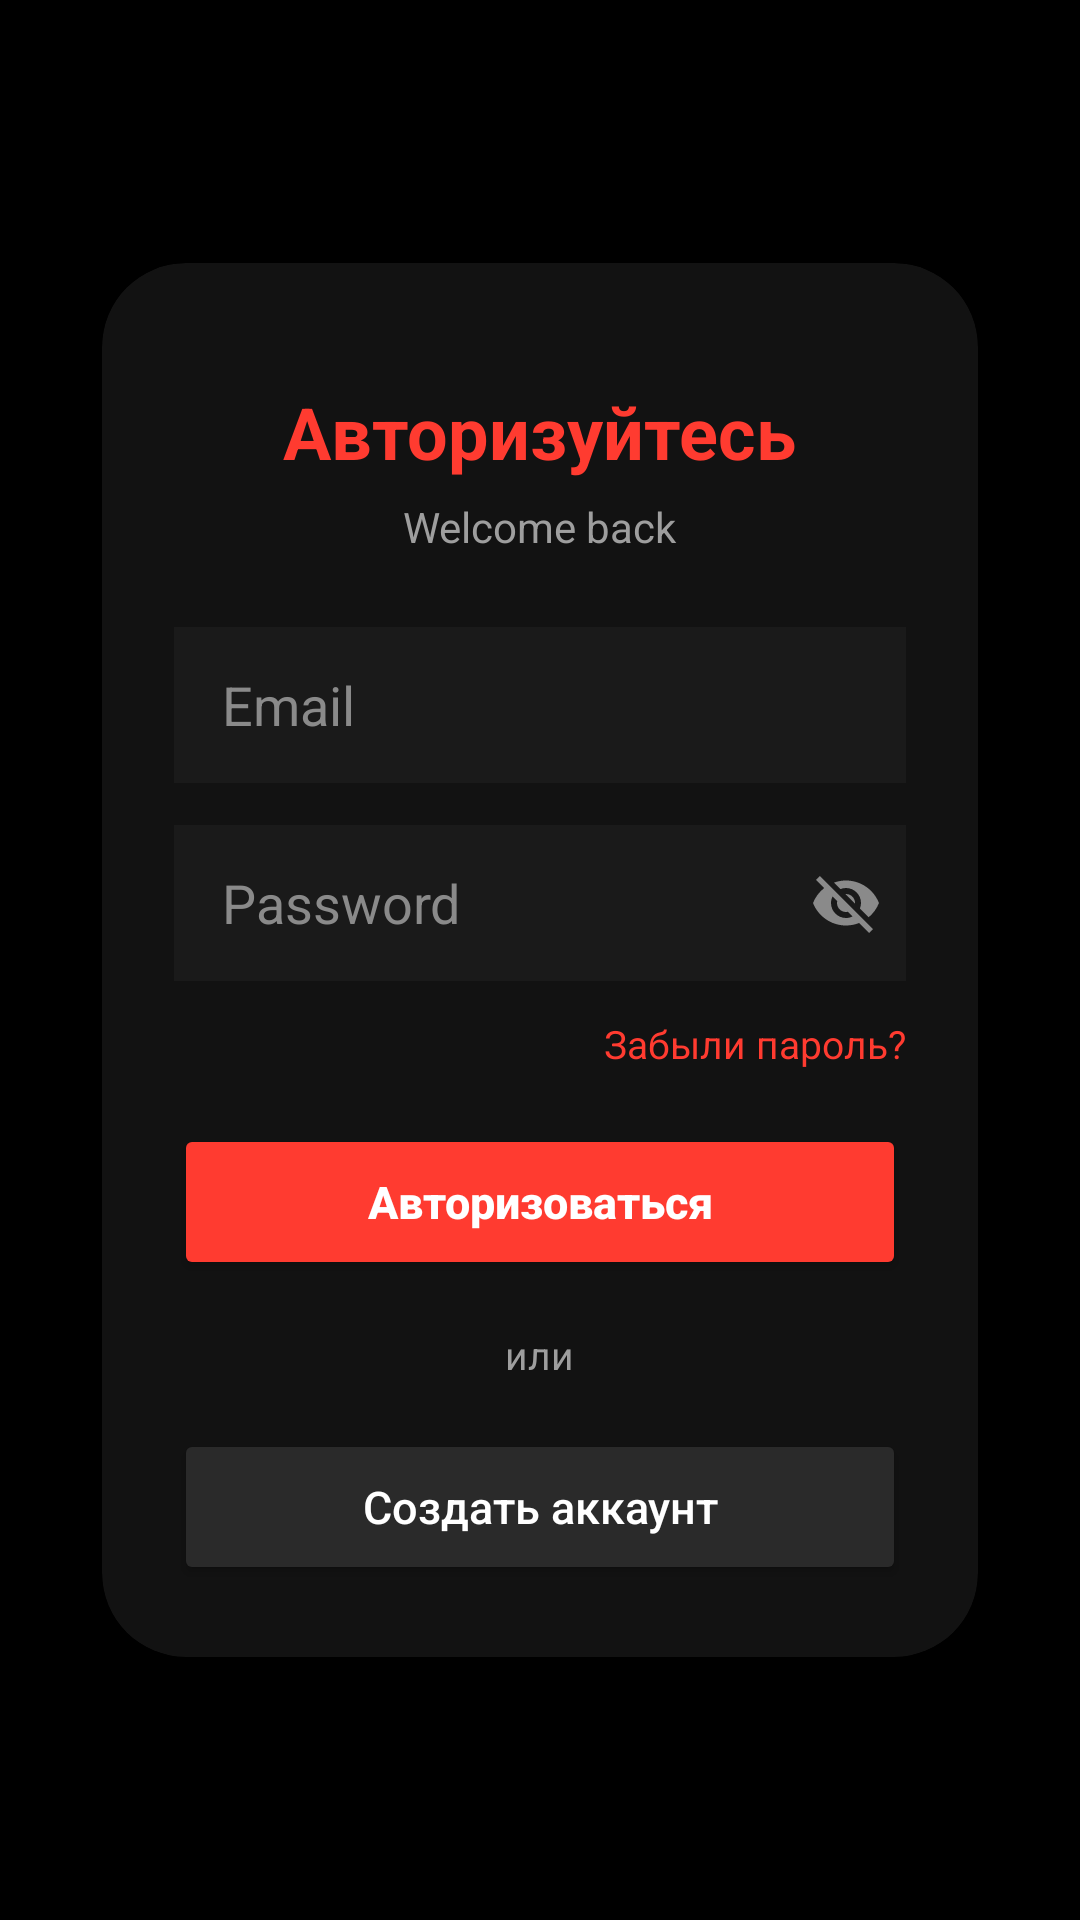

Named icons in this screenshot (1080 × 1920) and their centers, (x,y):
Показать пароль: (846,904)
